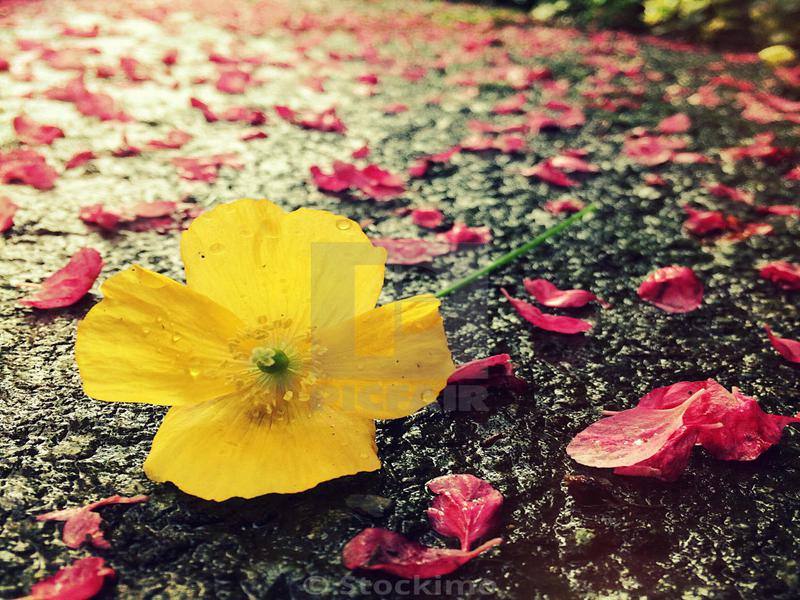flowers: (3, 1, 800, 198), (70, 198, 467, 510), (566, 360, 800, 487), (1, 491, 184, 598), (338, 473, 522, 579)
